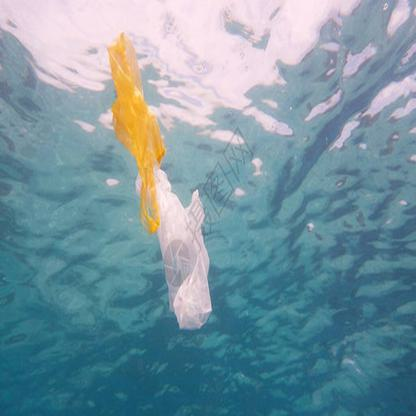plastic bag: (138, 162, 212, 332), (104, 33, 165, 238)
